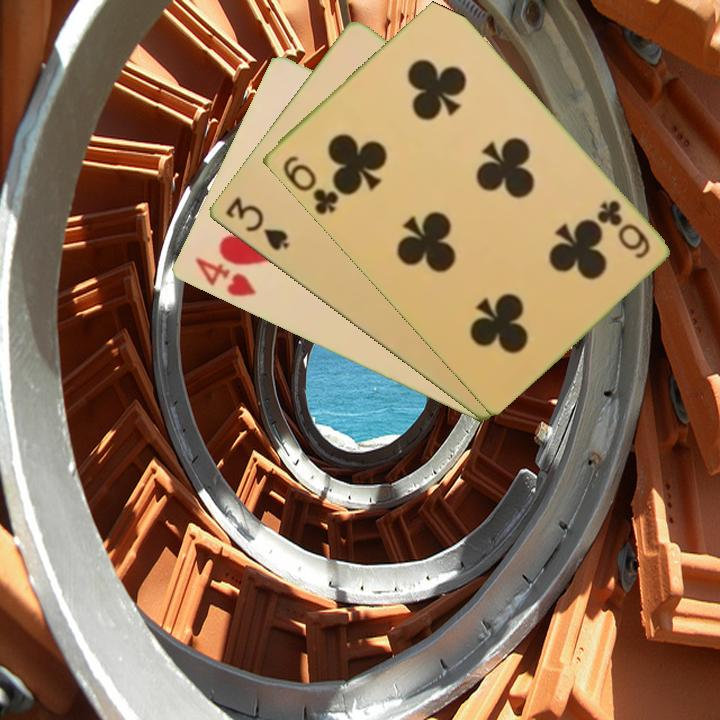3s: (221, 193, 292, 254)
4h: (190, 254, 259, 300)
6c: (279, 151, 341, 218), (593, 196, 653, 262)
